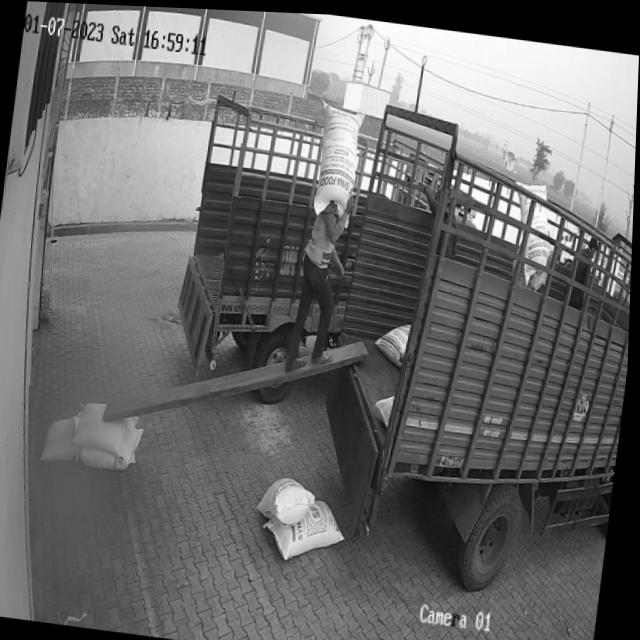sack: (310, 94, 366, 216), (263, 489, 351, 563), (75, 398, 142, 457), (78, 419, 147, 471), (258, 472, 320, 527), (43, 411, 86, 464)
